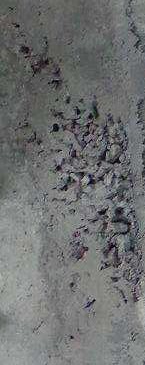Spalling: (1, 1, 145, 310), (125, 1, 145, 52)
